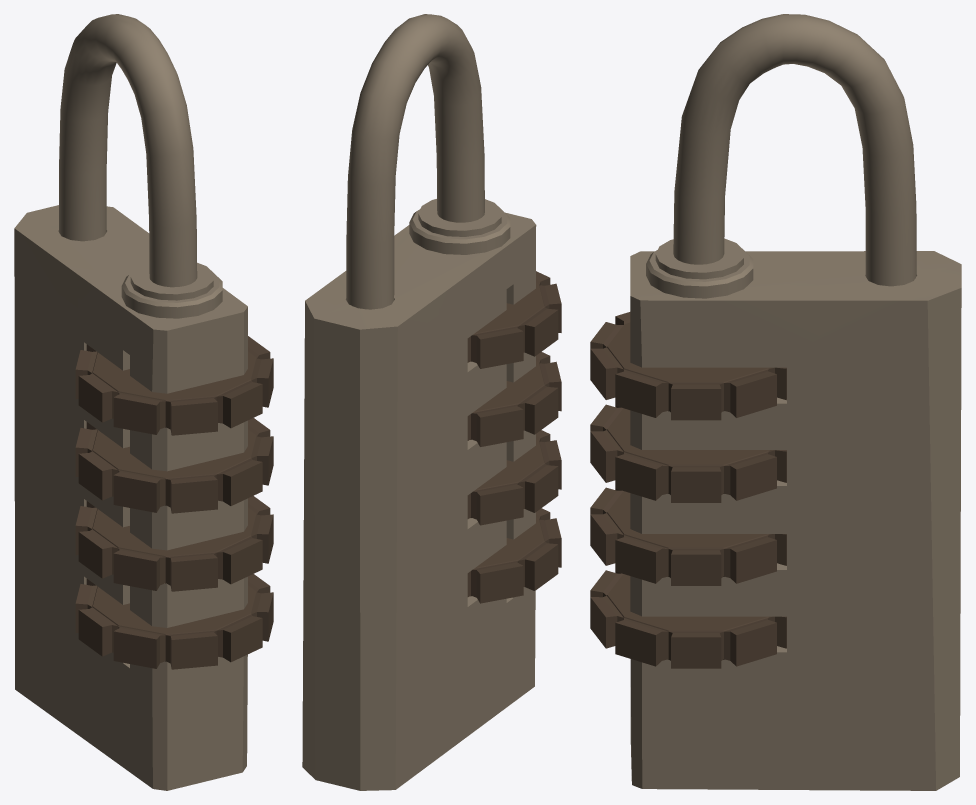
File: lock_.fbx
The picture shows the model from 3 angles, left to right: view 1: azimuth 30°, elevation 25°; view 2: azimuth 150°, elevation 25°; view 3: azimuth 270°, elevation 25°; orthographic projection. The views are drawn at different scales.
Parts seen in each view (by area): view 1: lock, lock_top, lock_b02, lock_b01, lock_b04, lock_b03; view 2: lock, lock_top, lock_b02, lock_b01, lock_b04, lock_b03; view 3: lock, lock_top, lock_b01, lock_b02, lock_b04, lock_b03.
Part boxes in pixels (bbox=[...]): lock: bbox=[14, 205, 247, 790]; lock_top: bbox=[59, 14, 197, 287]; lock_b02: bbox=[75, 418, 273, 513]; lock_b01: bbox=[75, 336, 273, 435]; lock_b04: bbox=[75, 574, 273, 669]; lock_b03: bbox=[75, 496, 273, 591]; lock: bbox=[302, 199, 536, 790]; lock_top: bbox=[346, 14, 484, 309]; lock_b02: bbox=[467, 352, 561, 446]; lock_b01: bbox=[467, 271, 561, 368]; lock_b04: bbox=[467, 508, 561, 603]; lock_b03: bbox=[467, 430, 561, 525]; lock: bbox=[630, 238, 961, 790]; lock_top: bbox=[673, 14, 916, 286]; lock_b01: bbox=[590, 312, 786, 420]; lock_b02: bbox=[590, 404, 786, 502]; lock_b04: bbox=[590, 570, 786, 668]; lock_b03: bbox=[590, 487, 786, 585].
Bounding box in the file's own units: 4.27 × 17.15 × 7.69.
